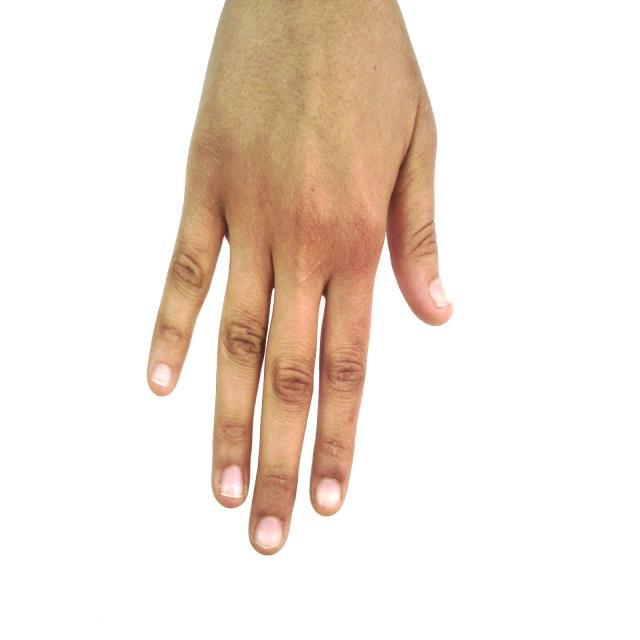Fingernail: (256, 517, 282, 549), (220, 466, 245, 498), (315, 478, 340, 509), (429, 279, 449, 307), (152, 365, 171, 387)
